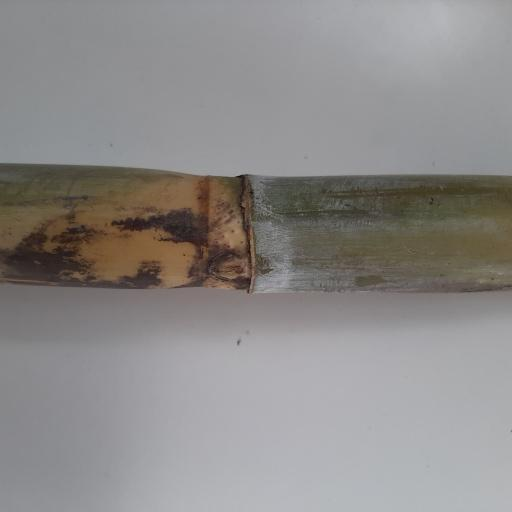Bud: (205, 251, 248, 283)
